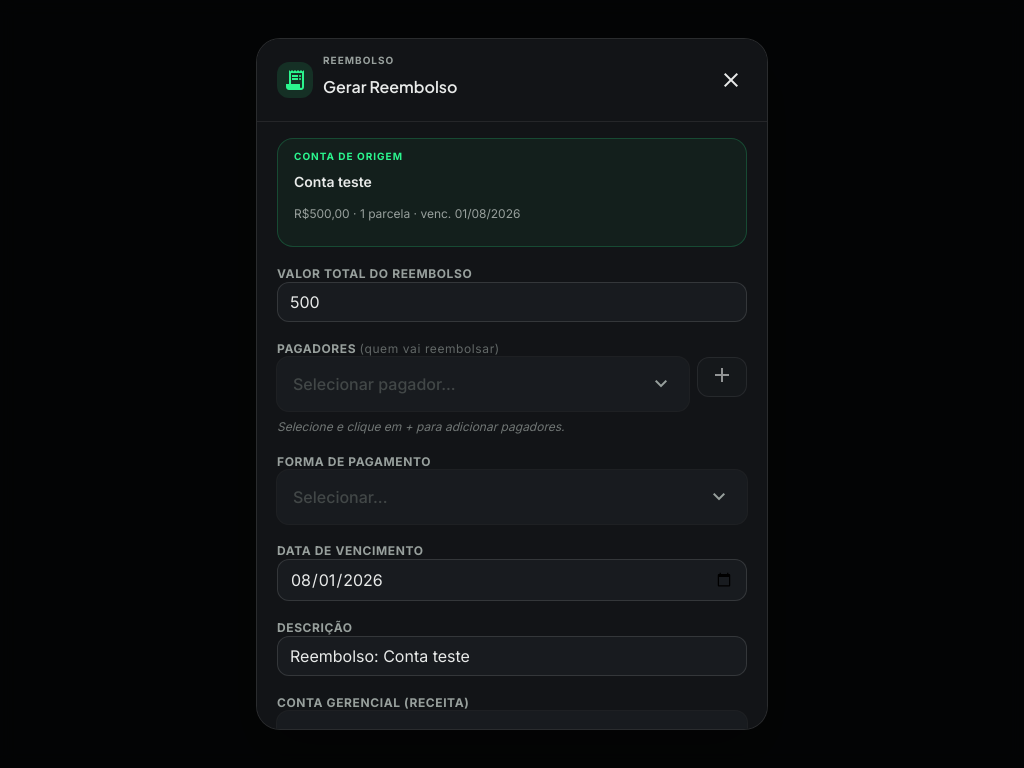
it: ReembolsoModal › removes a pagador chip via × button
Click the dropdown named "Adicionar pagador" at (483, 384), box 277,357 -> 689,411
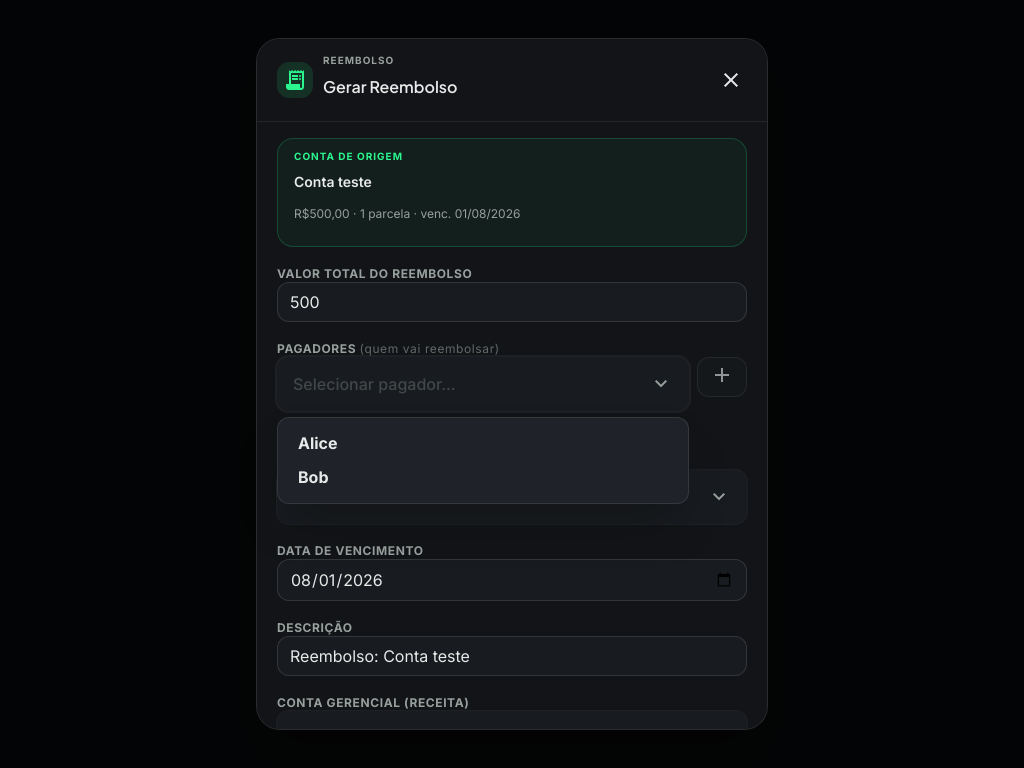
Click the button "Alice" at (318, 443), box 286,426 -> 680,460
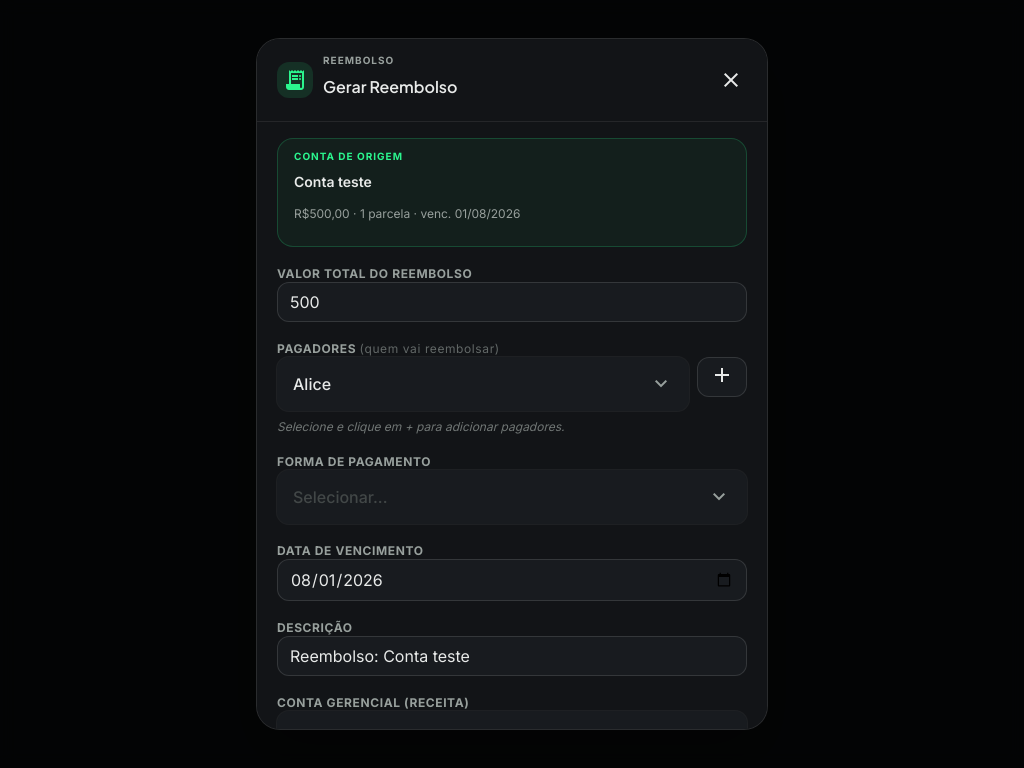
Click the button named "add" at (722, 377), box 697,357 -> 747,397
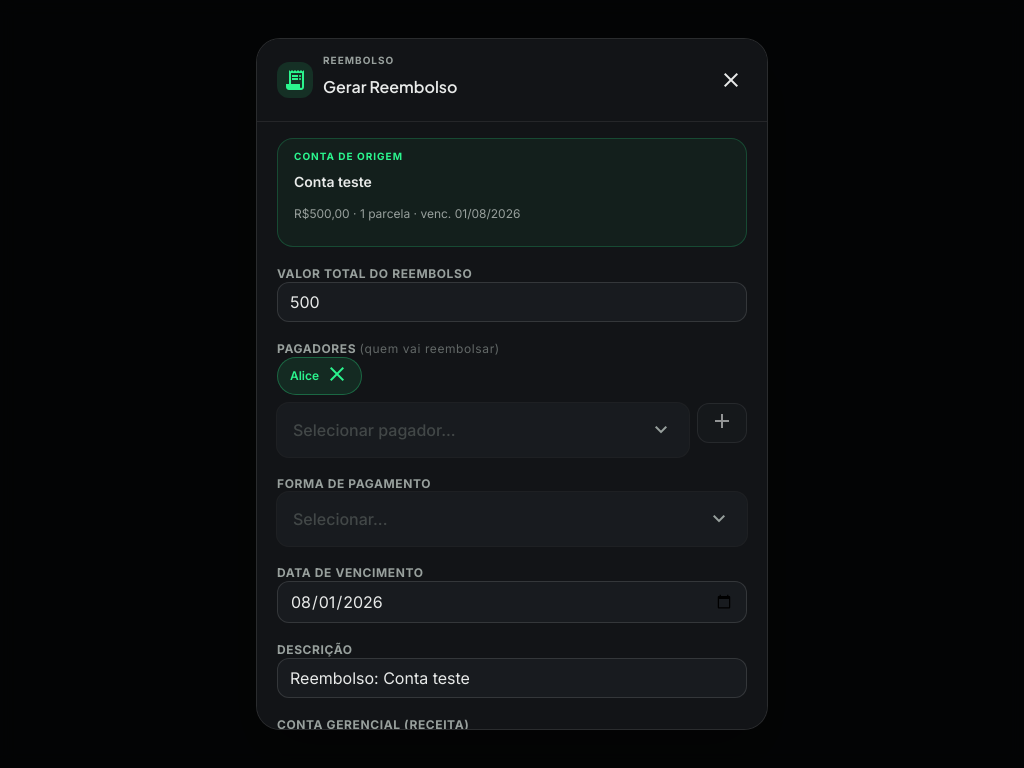
Expected: the text "Alice" is shown, 277,357 -> 362,395
Click the button named "Remover Alice" at (337, 376), box 325,362 -> 349,390
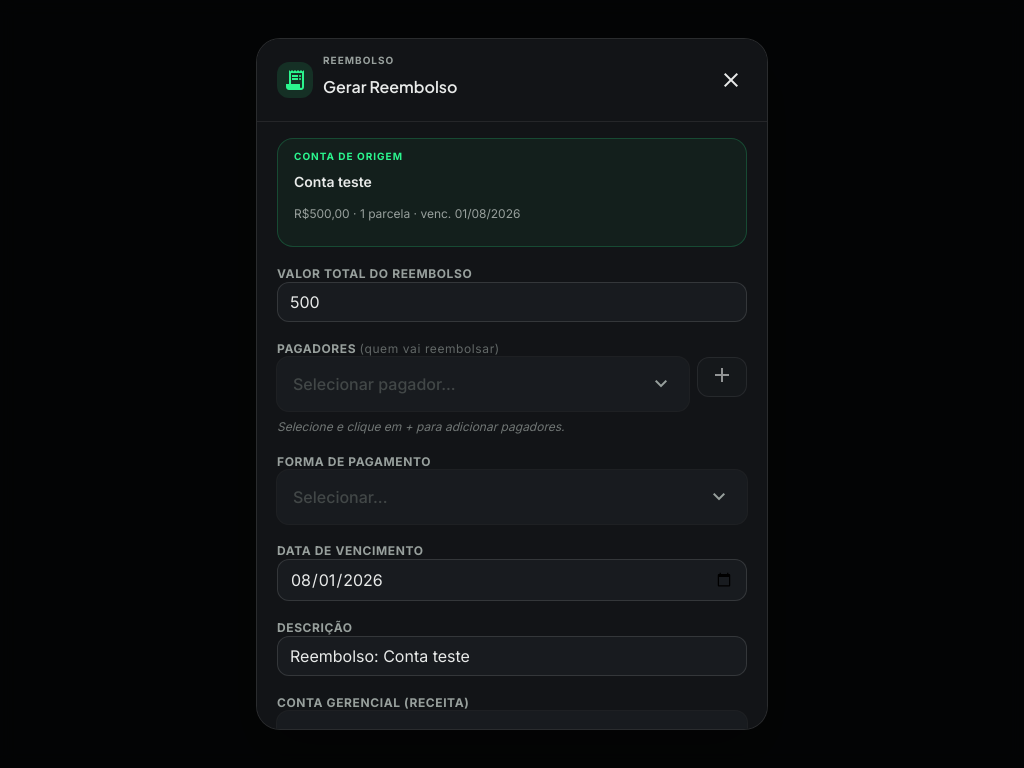
Expected: the text "Alice" is gone
